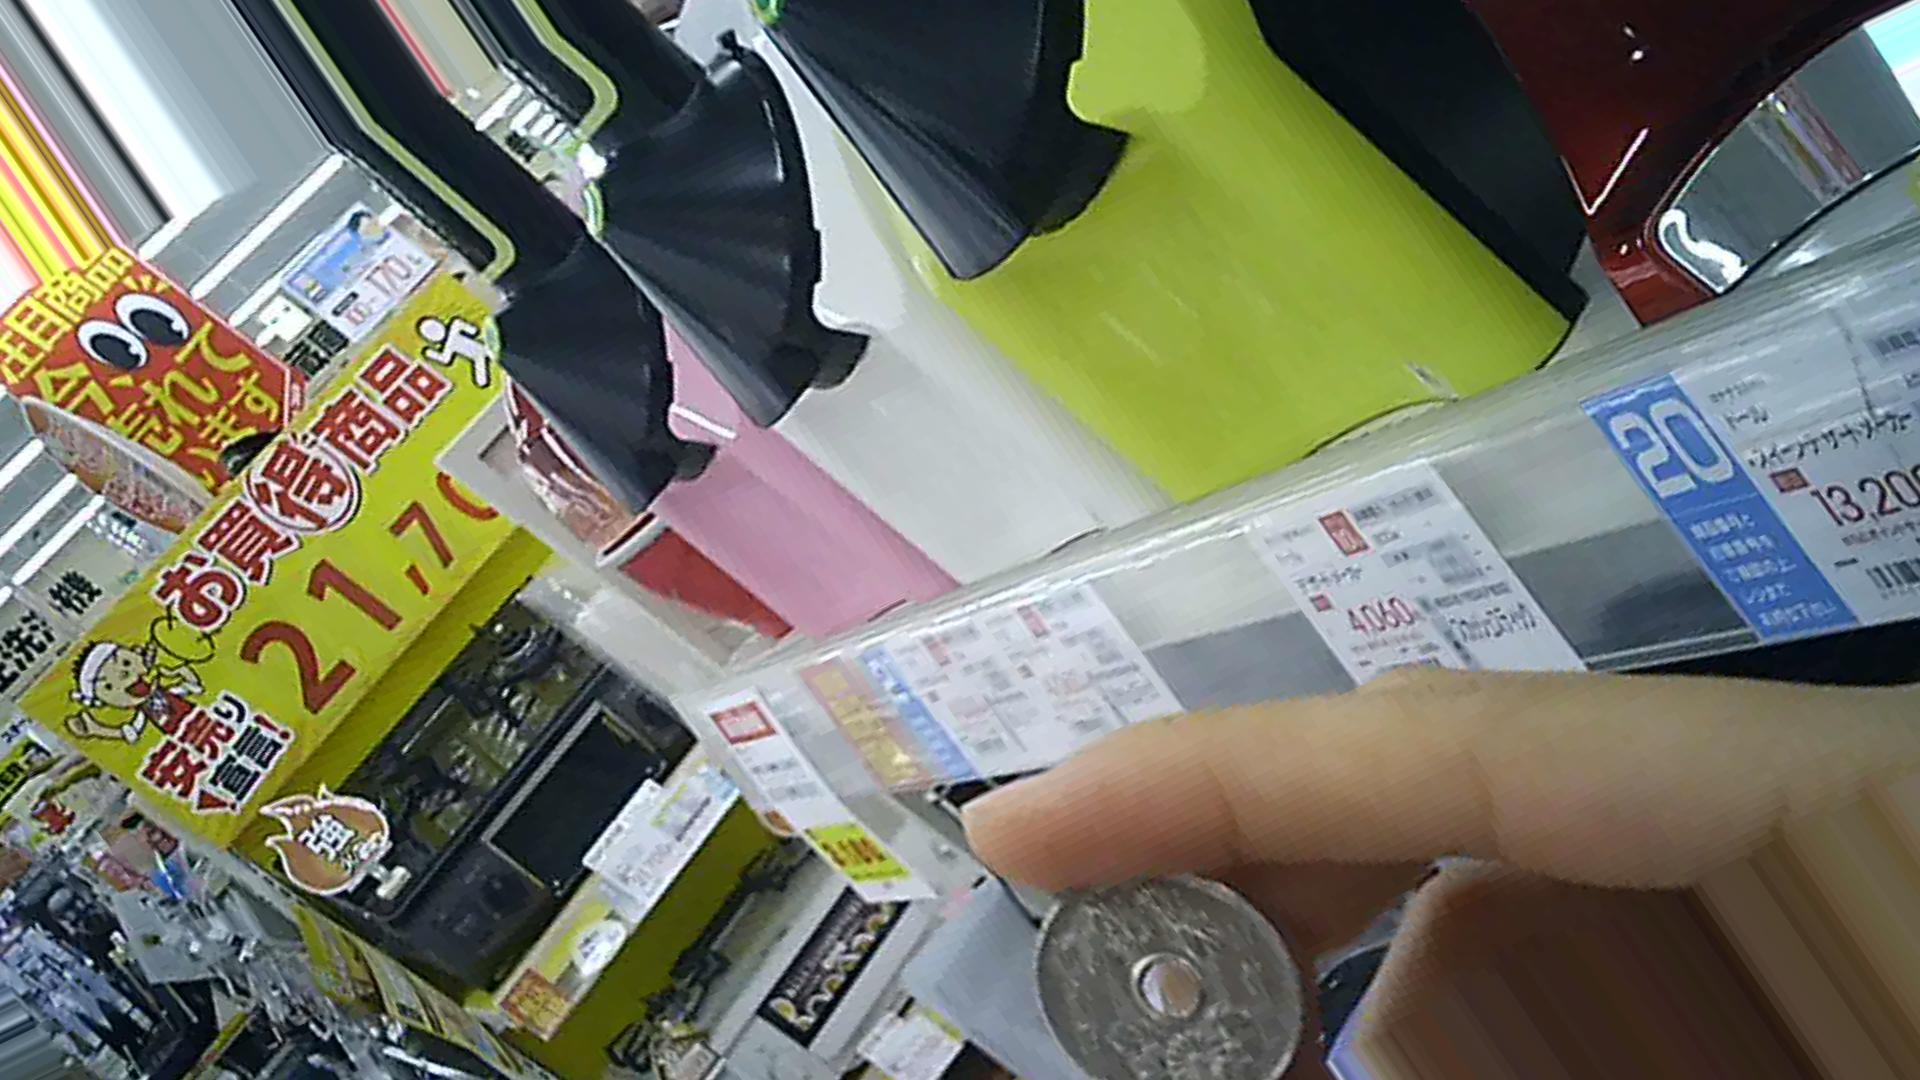50 Yen: (1018, 862, 1309, 1079)
